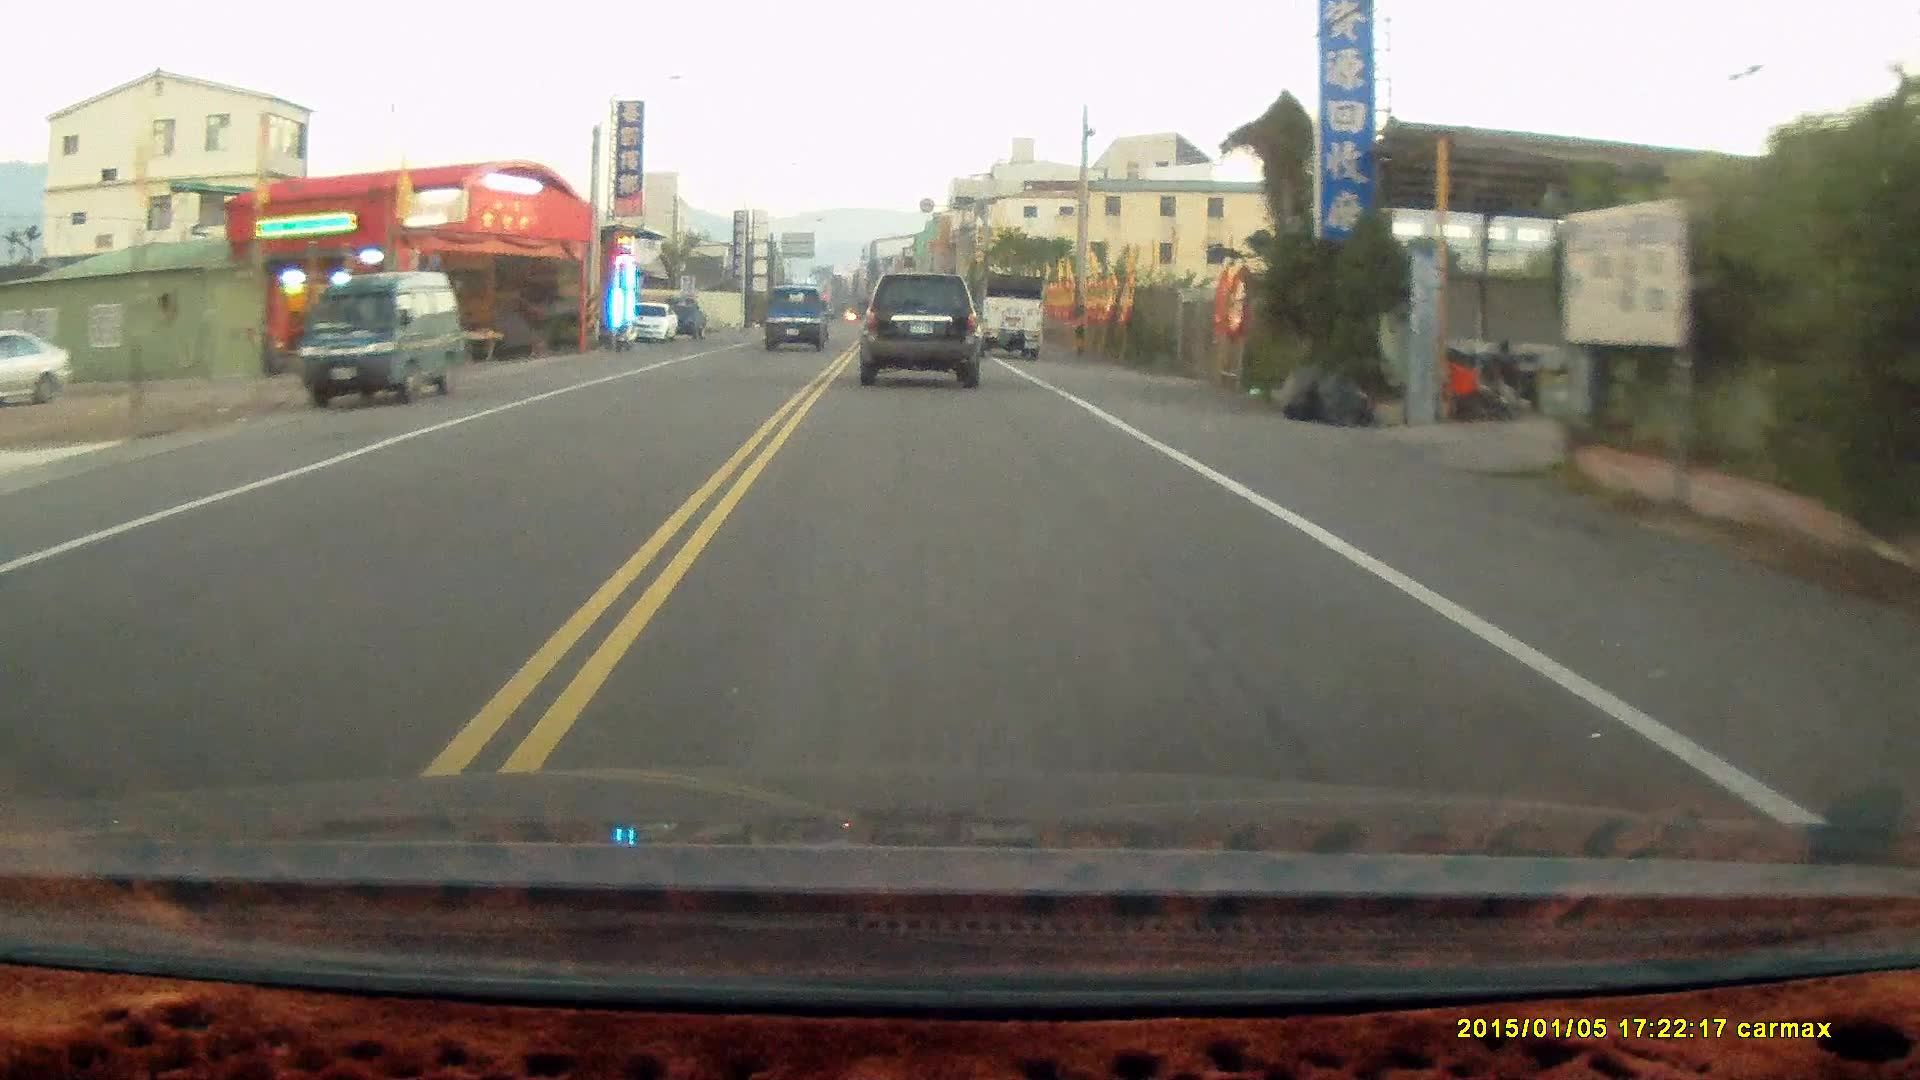vehicle: (295, 265, 467, 406), (862, 270, 982, 385), (956, 272, 1048, 360), (1, 319, 69, 407), (765, 284, 833, 353)
